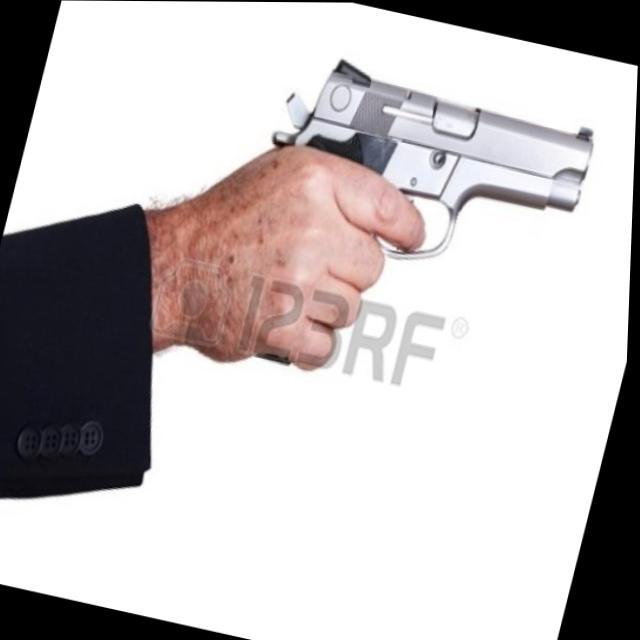weapon: (217, 44, 604, 416)
